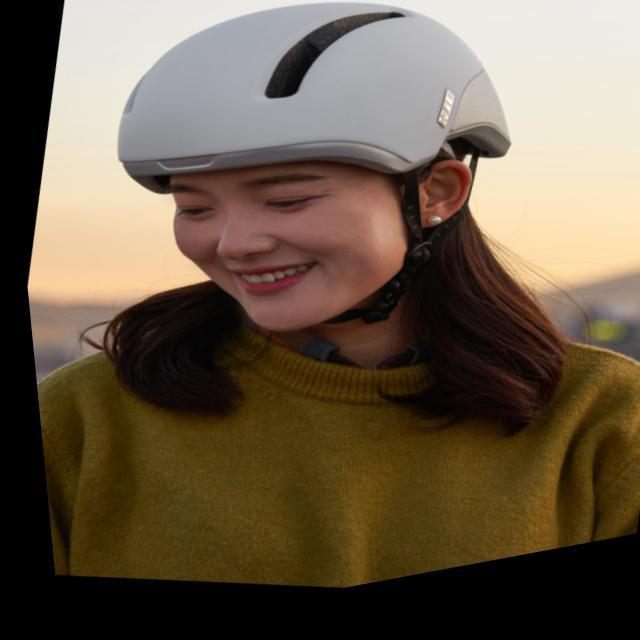Helmet: (112, 0, 509, 346)
